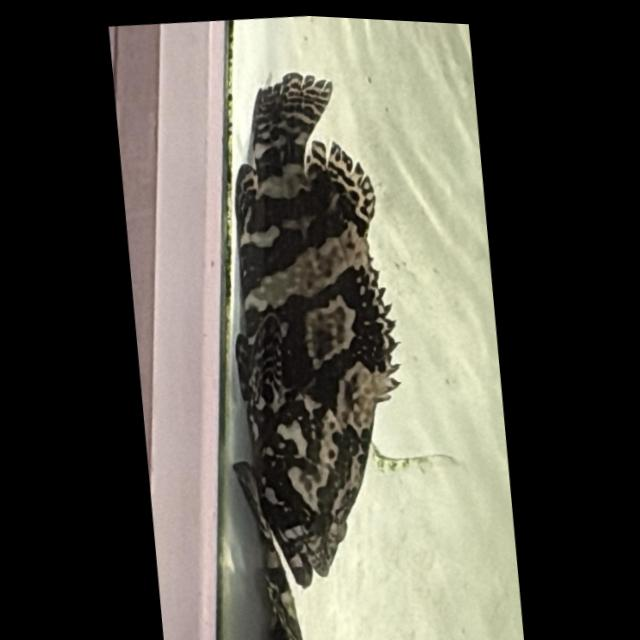Groupers: (200, 57, 427, 602)
